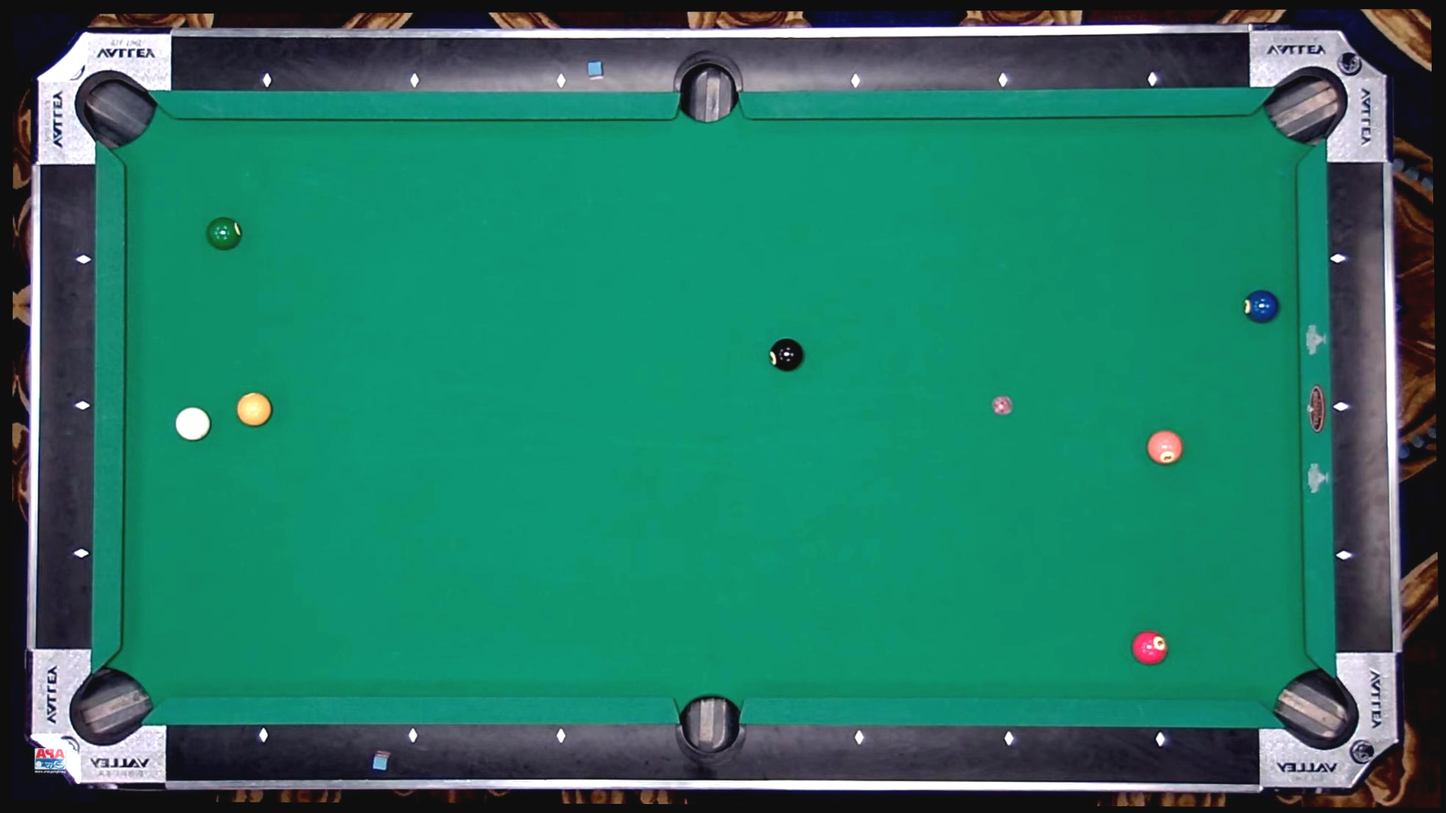Black: (769, 338, 803, 372)
Cue: (175, 406, 211, 441)
Solid: (1339, 550, 1350, 561), (1333, 253, 1344, 264), (1147, 74, 1158, 85), (262, 75, 273, 86), (79, 254, 90, 265), (556, 731, 567, 742), (854, 732, 865, 743), (850, 76, 861, 86), (409, 75, 419, 86), (258, 731, 269, 741), (408, 731, 419, 741), (1156, 733, 1167, 743), (1336, 402, 1346, 412), (998, 75, 1008, 85), (556, 76, 566, 86), (78, 401, 88, 411), (76, 549, 86, 559), (1005, 733, 1015, 743)
Striped: (1244, 289, 1280, 324), (206, 217, 243, 251), (237, 392, 272, 427), (1132, 631, 1168, 664), (1147, 431, 1183, 464)
